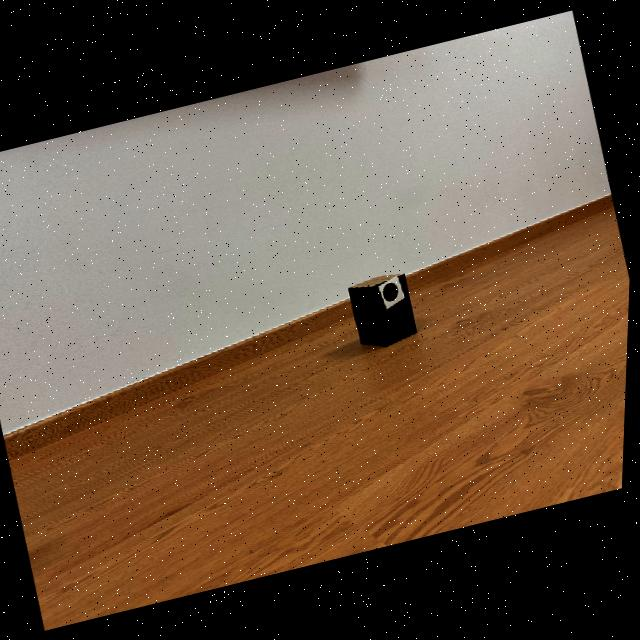CIRCLE: (385, 282, 401, 301)
